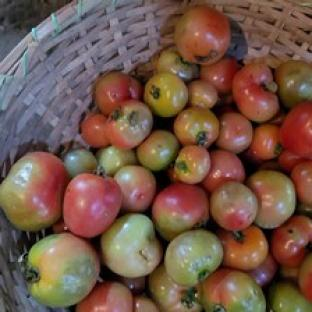Tomato: (21, 233, 100, 307), (0, 152, 68, 231), (101, 214, 162, 277), (63, 173, 122, 238), (175, 6, 231, 65), (165, 229, 222, 286), (152, 183, 208, 240), (200, 267, 266, 311), (246, 170, 296, 228), (233, 63, 279, 122), (148, 264, 201, 311), (106, 99, 153, 149), (216, 225, 268, 270), (211, 182, 257, 231), (94, 72, 143, 115), (271, 215, 311, 267), (144, 72, 188, 116), (173, 106, 220, 147), (115, 165, 155, 213), (201, 150, 245, 192), (200, 56, 239, 103), (279, 101, 311, 158), (76, 280, 133, 311), (137, 129, 179, 171), (275, 60, 311, 108), (216, 112, 253, 154), (156, 49, 199, 82), (267, 280, 311, 311), (175, 145, 210, 183), (248, 123, 282, 161), (95, 145, 137, 175), (246, 251, 279, 288), (62, 147, 98, 178), (290, 159, 311, 204), (81, 113, 108, 147), (189, 80, 218, 108), (111, 275, 146, 295), (299, 253, 311, 303), (278, 150, 305, 172), (134, 296, 160, 311)
